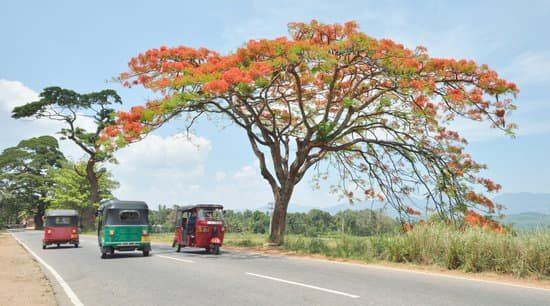threewheel: (95, 200, 153, 259), (171, 203, 227, 255), (42, 208, 81, 249)
